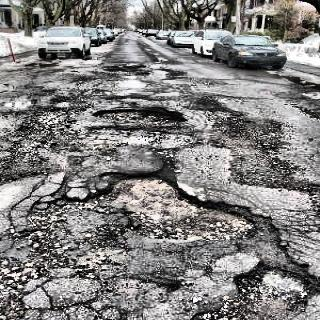pothole: (95, 162, 262, 244), (184, 255, 320, 320), (88, 105, 190, 127)
